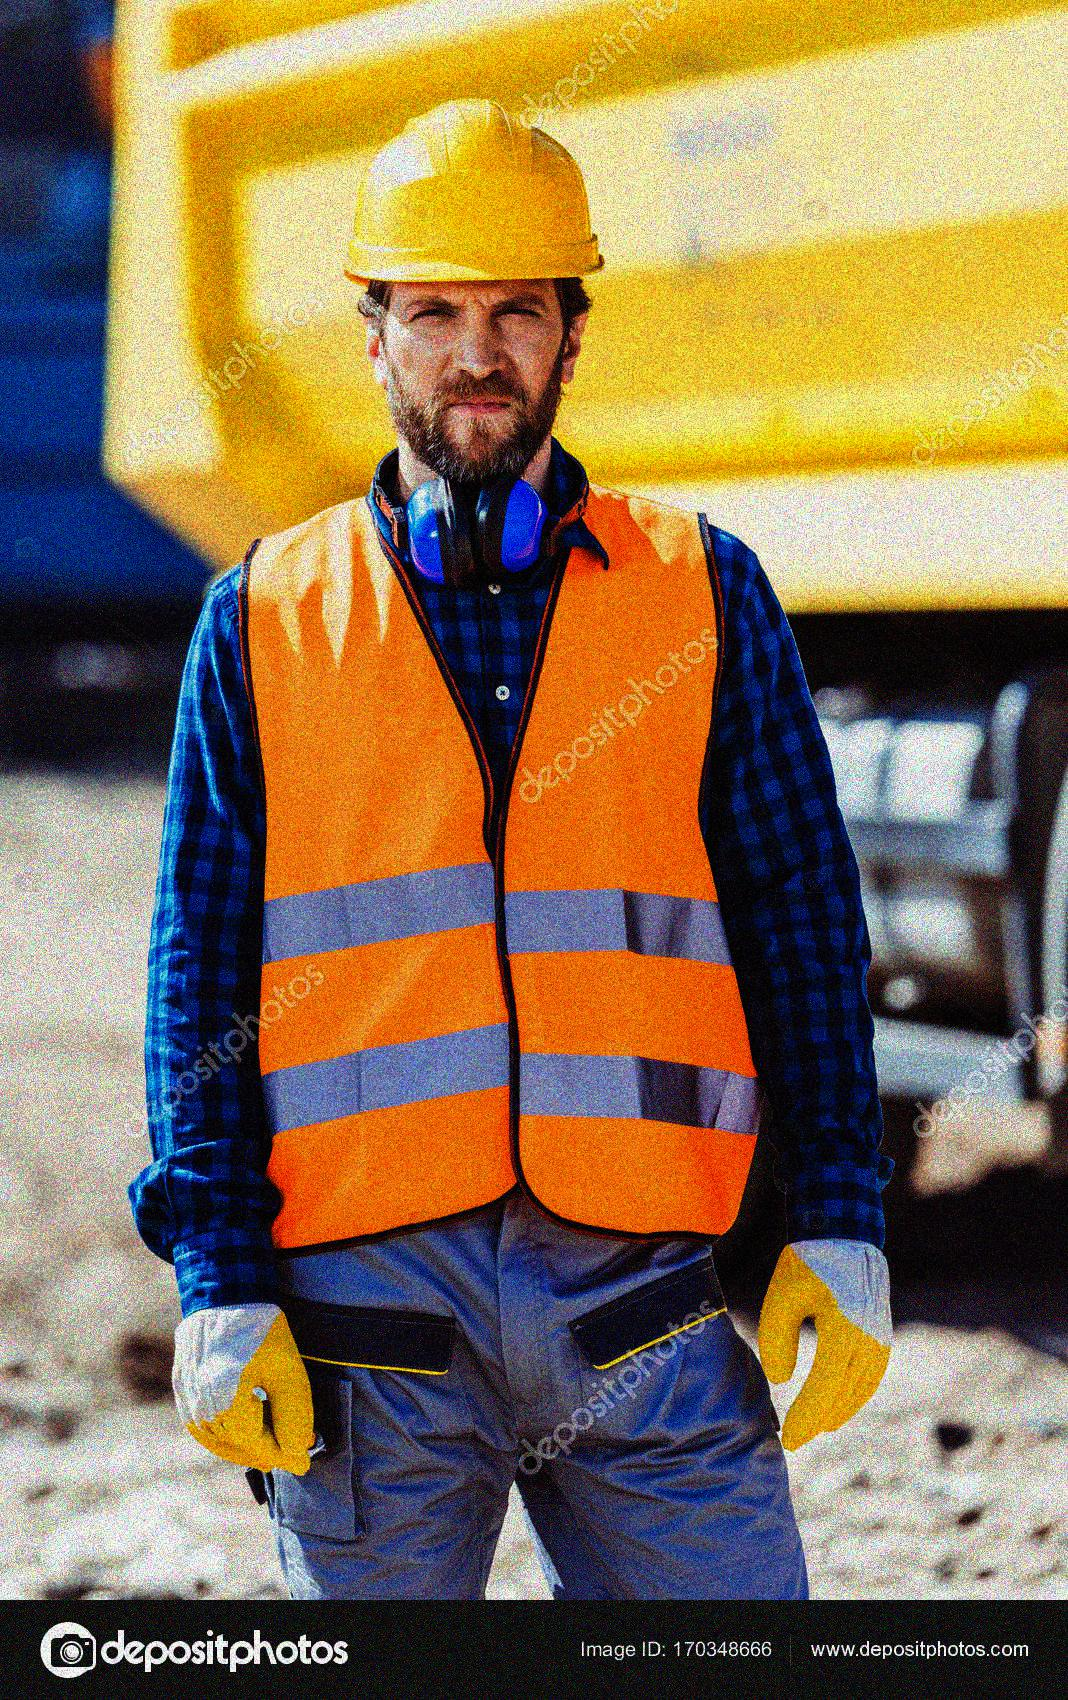helmet: (346, 95, 610, 474)
